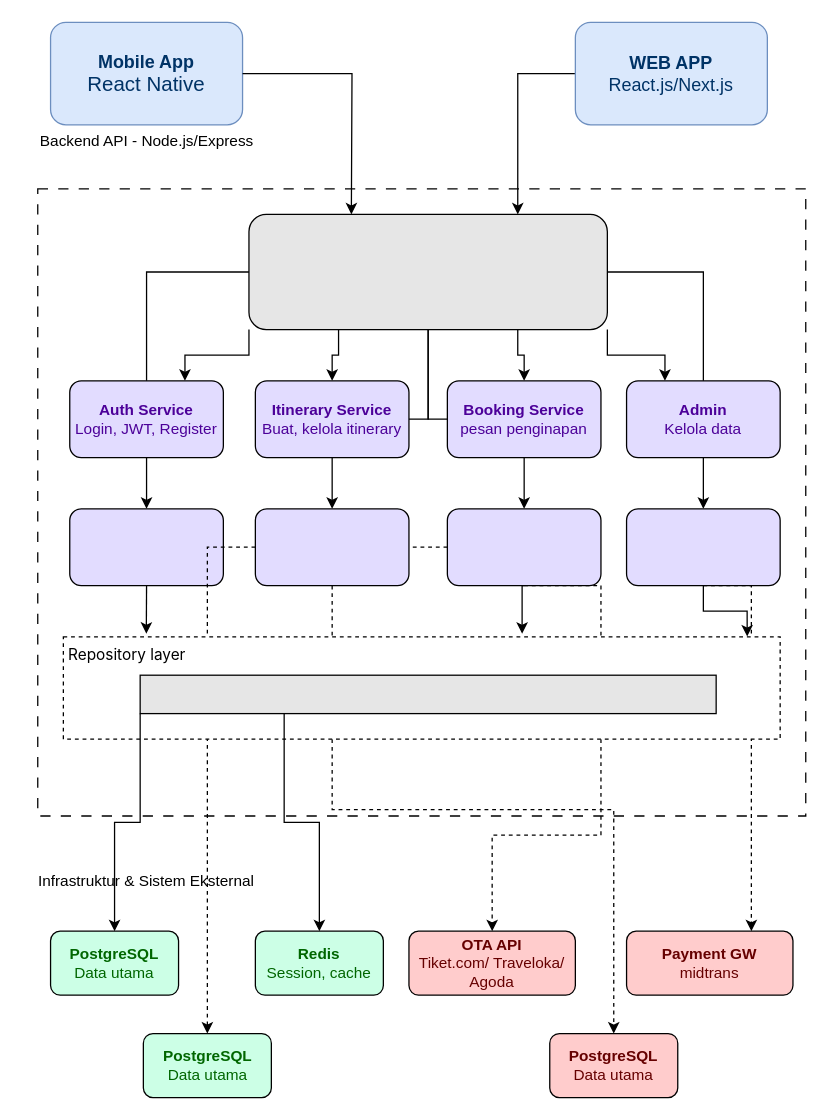
This 828x1120 diagram has some shape labels left out. Each missing label, with the centre of its shape:
"API Gateway Routing, Rate Limiting, CORS" belongs at pixel 427 271.
"Cost Esminator Hitung estimasi biaya" belongs at pixel 145 547.
"Data Access Layer - ORM (Prisma/Sequelize)" belongs at pixel 427 694.
"Notification Email, push notif" belongs at pixel 523 547.
"Payment Proses bayar" belongs at pixel 702 547.
"Subscription Kelola langganan" belongs at pixel 331 547.
